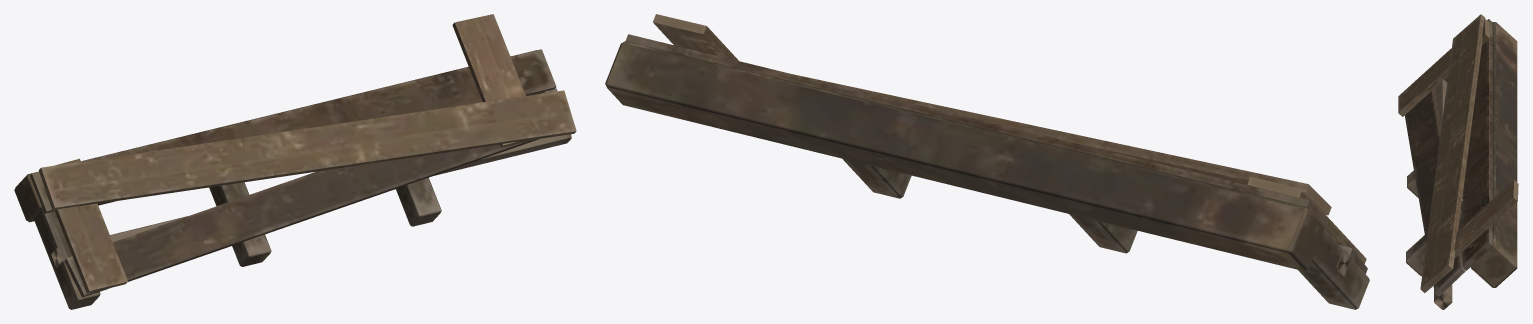
File: roof.frontier.bottom.line_variant_a.glb
3 renders of one model, left to right at view 1: azimuth 30°, elevation 25°; view 2: azimuth 150°, elevation 25°; view 3: azimuth 270°, elevation 25°, orthographic. The views are drawn at different scales.
Parts seen in each view (by area): view 1: model; view 2: model; view 3: model.
Boxes of the visible parts, x1,y1,x2,y2 form: model: (14, 14, 576, 309); model: (605, 14, 1369, 309); model: (1398, 14, 1518, 309).
Bounding box in the file's own units: 3.03 × 0.8059 × 0.6807.
1 material, 1 textured.
